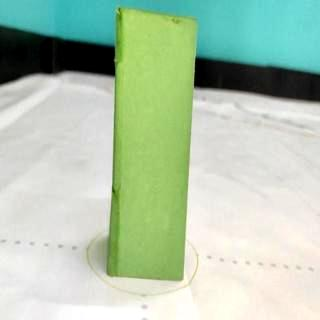greenbox: (106, 2, 200, 282)
